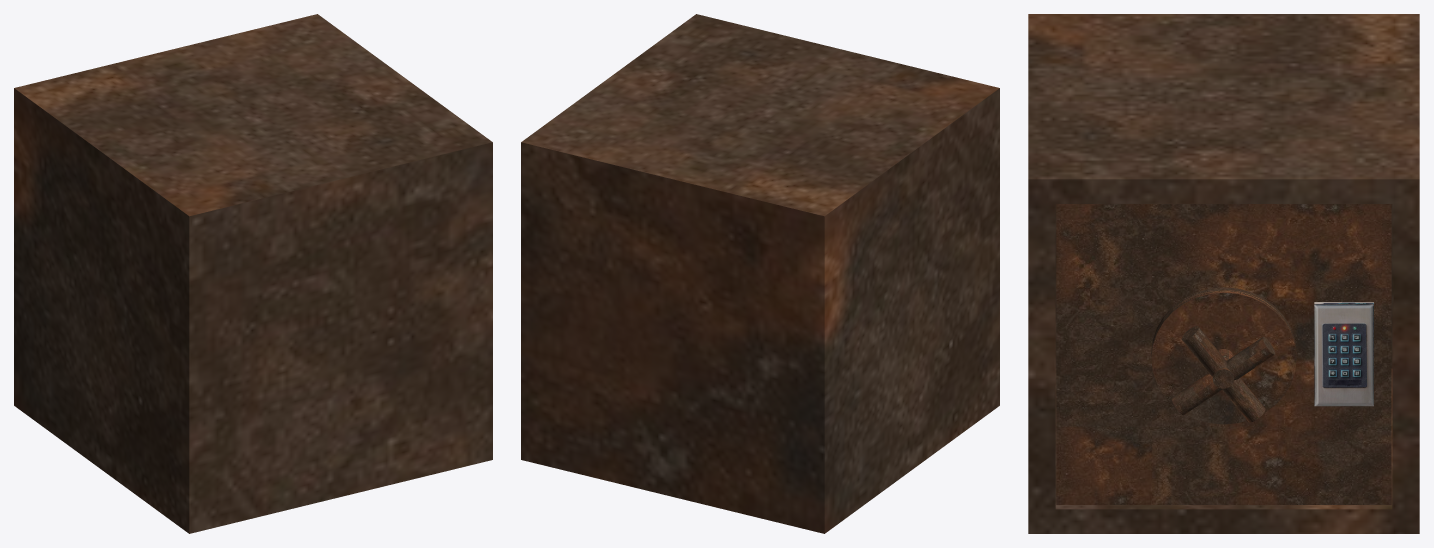
The model's file is Safe2.fbx.
3 views of the same model, side by side, from view 1: azimuth 30°, elevation 25°; view 2: azimuth 150°, elevation 25°; view 3: azimuth 270°, elevation 25° (orthographic). The views are drawn at different scales.
Visible parts, largest first — view 1: Safe; view 2: Safe; view 3: Safe, SafeDoor, KeyCode, DoorHandle.
Part boxes in pixels (left/top/right/bottom): Safe: left=14, top=14, right=492, bottom=533; Safe: left=521, top=14, right=999, bottom=533; Safe: left=1028, top=14, right=1419, bottom=533; SafeDoor: left=1056, top=204, right=1391, bottom=504; KeyCode: left=1314, top=302, right=1373, bottom=406; DoorHandle: left=1171, top=326, right=1275, bottom=422.
Bounding box in the file's own units: 227 × 200 × 200.
Materials: 2 (2 with a texture image).
